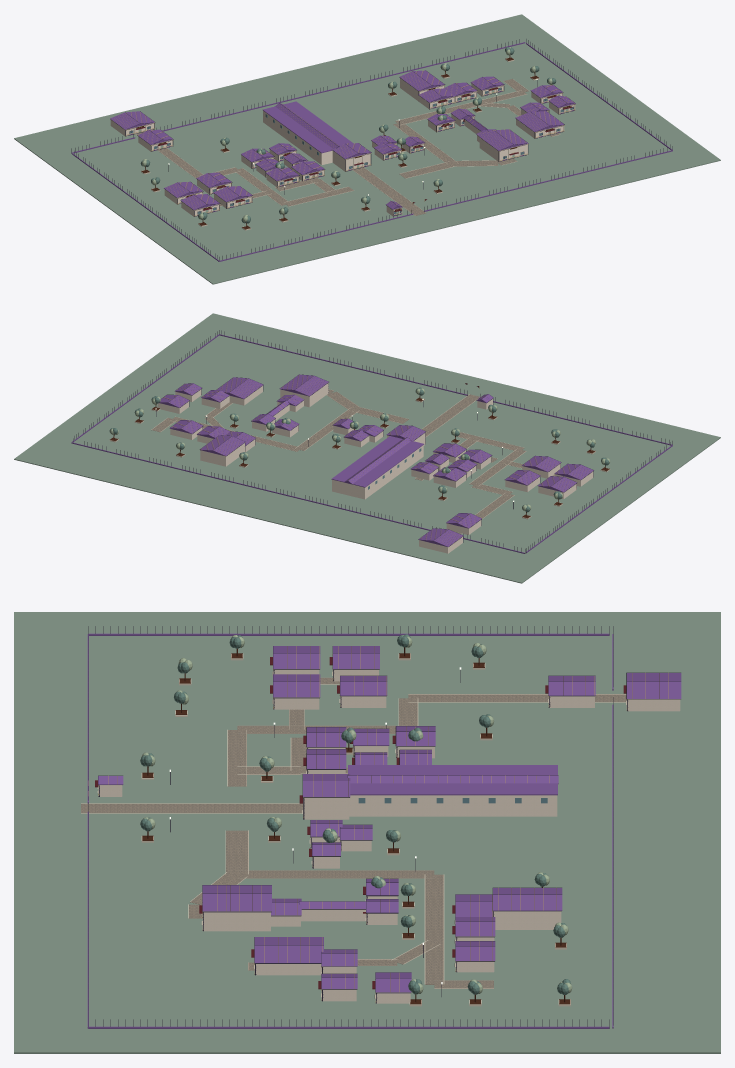
Rendered from context.glb.
The picture shows the model from 3 angles, top to bottom: view 1: azimuth 30°, elevation 25°; view 2: azimuth 150°, elevation 25°; view 3: azimuth 270°, elevation 25°; orthographic projection. The views are drawn at different scales.
Parts seen in each view (by area): view 1: Runtime_context; view 2: Runtime_context; view 3: Runtime_context.
Boxes of the visible parts, left/top/right/bottom form: Runtime_context: left=14, top=14, right=720, bottom=284; Runtime_context: left=14, top=313, right=720, bottom=583; Runtime_context: left=14, top=612, right=720, bottom=1053.
Bounding box in the file's own units: 280 × 8.66 × 190.
13 materials, 4 textured.
